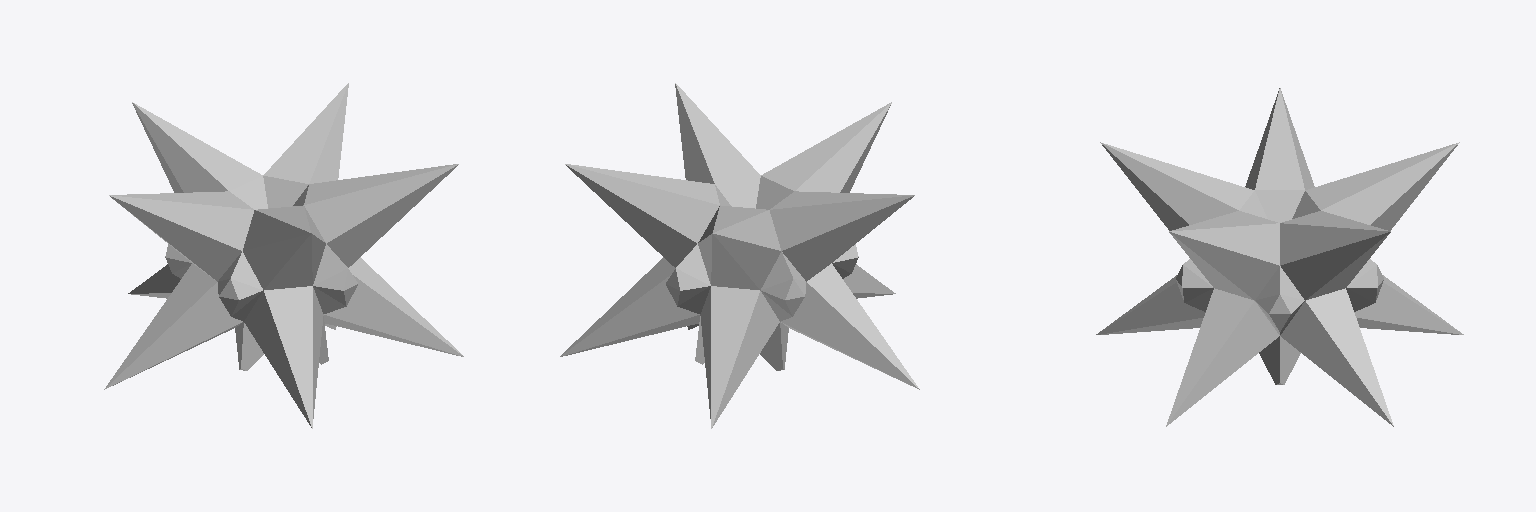
Rendered from SpikyStarThing.obj.
The picture shows the model from 3 angles: view 1: azimuth 30°, elevation 25°; view 2: azimuth 150°, elevation 25°; view 3: azimuth 270°, elevation 25°; orthographic projection.
Parts seen in each view (by area): view 1: Icosphere; view 2: Icosphere; view 3: Icosphere.
Part boxes in pixels (bbox=[...]): Icosphere: bbox=[104, 83, 463, 428]; Icosphere: bbox=[560, 83, 919, 428]; Icosphere: bbox=[1096, 88, 1463, 426].
Size of the model in its own units: 4.31 by 2.63 by 4.54.